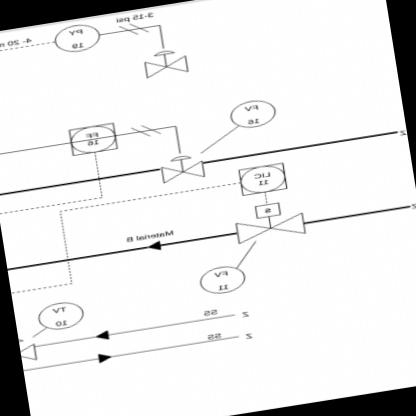LMI: (221, 93, 282, 132), (36, 294, 96, 333), (193, 260, 249, 298), (52, 20, 102, 56)
TAG: (236, 156, 294, 196), (67, 120, 119, 156)
